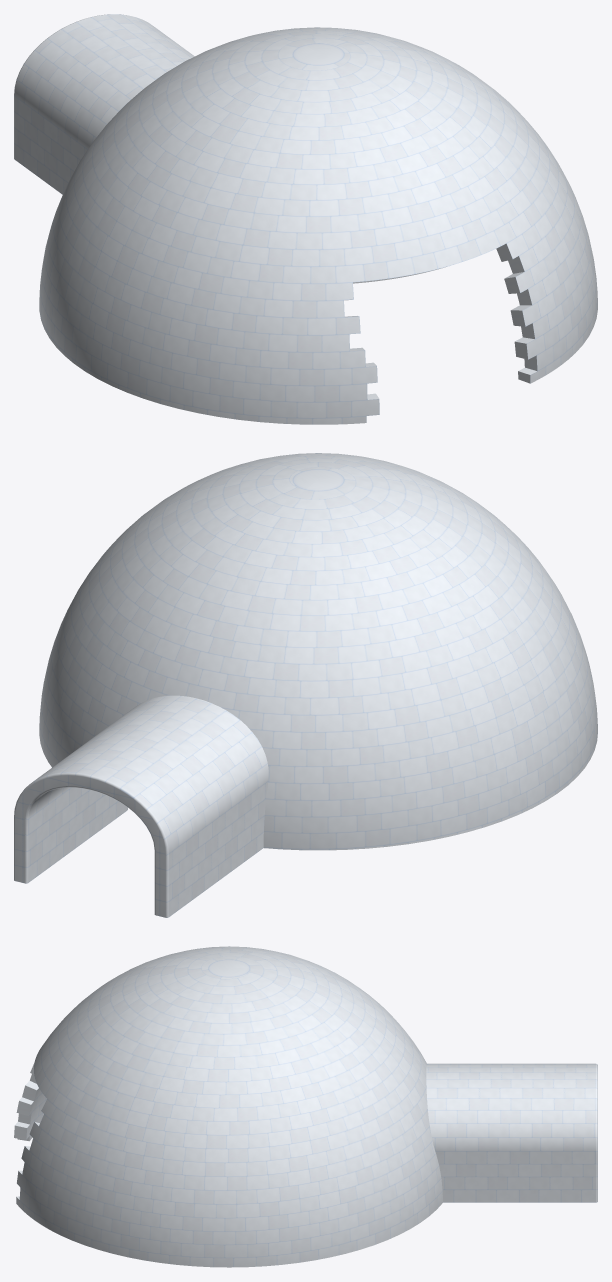
Rendered from SM_Igloo_Shell.glb.
3 renders of one model, top to bottom at view 1: azimuth 30°, elevation 25°; view 2: azimuth 150°, elevation 25°; view 3: azimuth 270°, elevation 25°, orthographic. The views are drawn at different scales.
Visible parts, largest first — view 1: SM_Igloo_Shell; view 2: SM_Igloo_Shell; view 3: SM_Igloo_Shell.
Part boxes in pixels (box(x1,y1,x2,y2)): SM_Igloo_Shell: box(14, 14, 597, 424); SM_Igloo_Shell: box(14, 453, 597, 917); SM_Igloo_Shell: box(14, 946, 597, 1267).
Size of the model in its own units: 19.1 by 9.55 by 24.71.
Materials: 1 (1 with a texture image).
